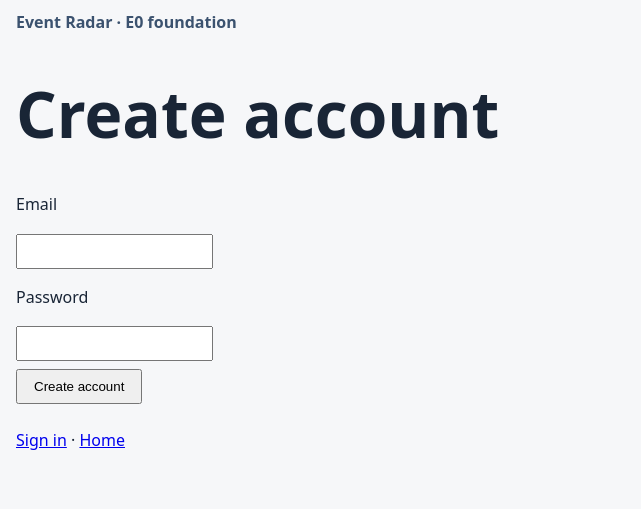
Test case: signup requiring confirmation stays unauthenticated
Expected: the button "Create account" is shown, [16,369,142,404]
Type "user@example.test" into the field labelled "Email" at x=114, y=251, box [16,234,213,269]
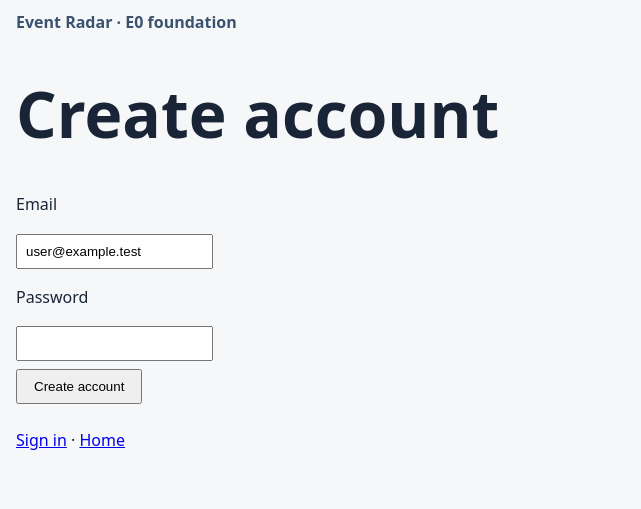
Type "test-password" into the password field labelled "Password" at x=114, y=344, box [16,326,213,361]
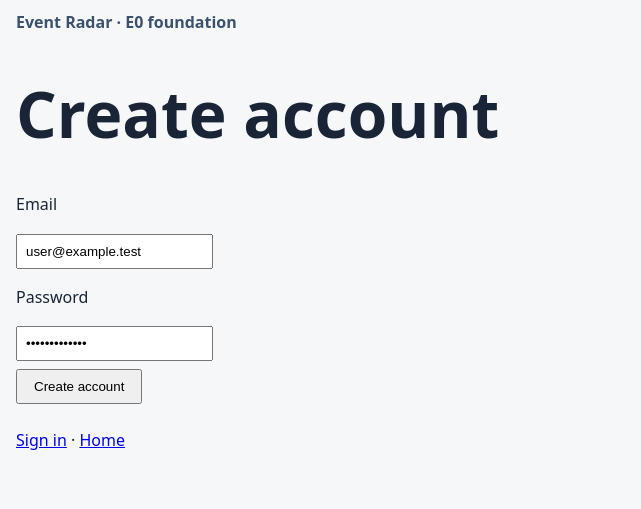
Click the button "Create account" at x=79, y=387, box [16,369,142,404]
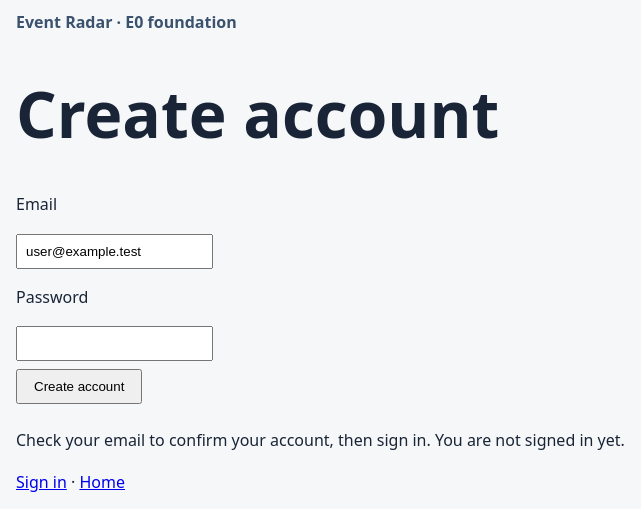
Expected: the message shows "You are not signed in yet", [16,429,625,451]
